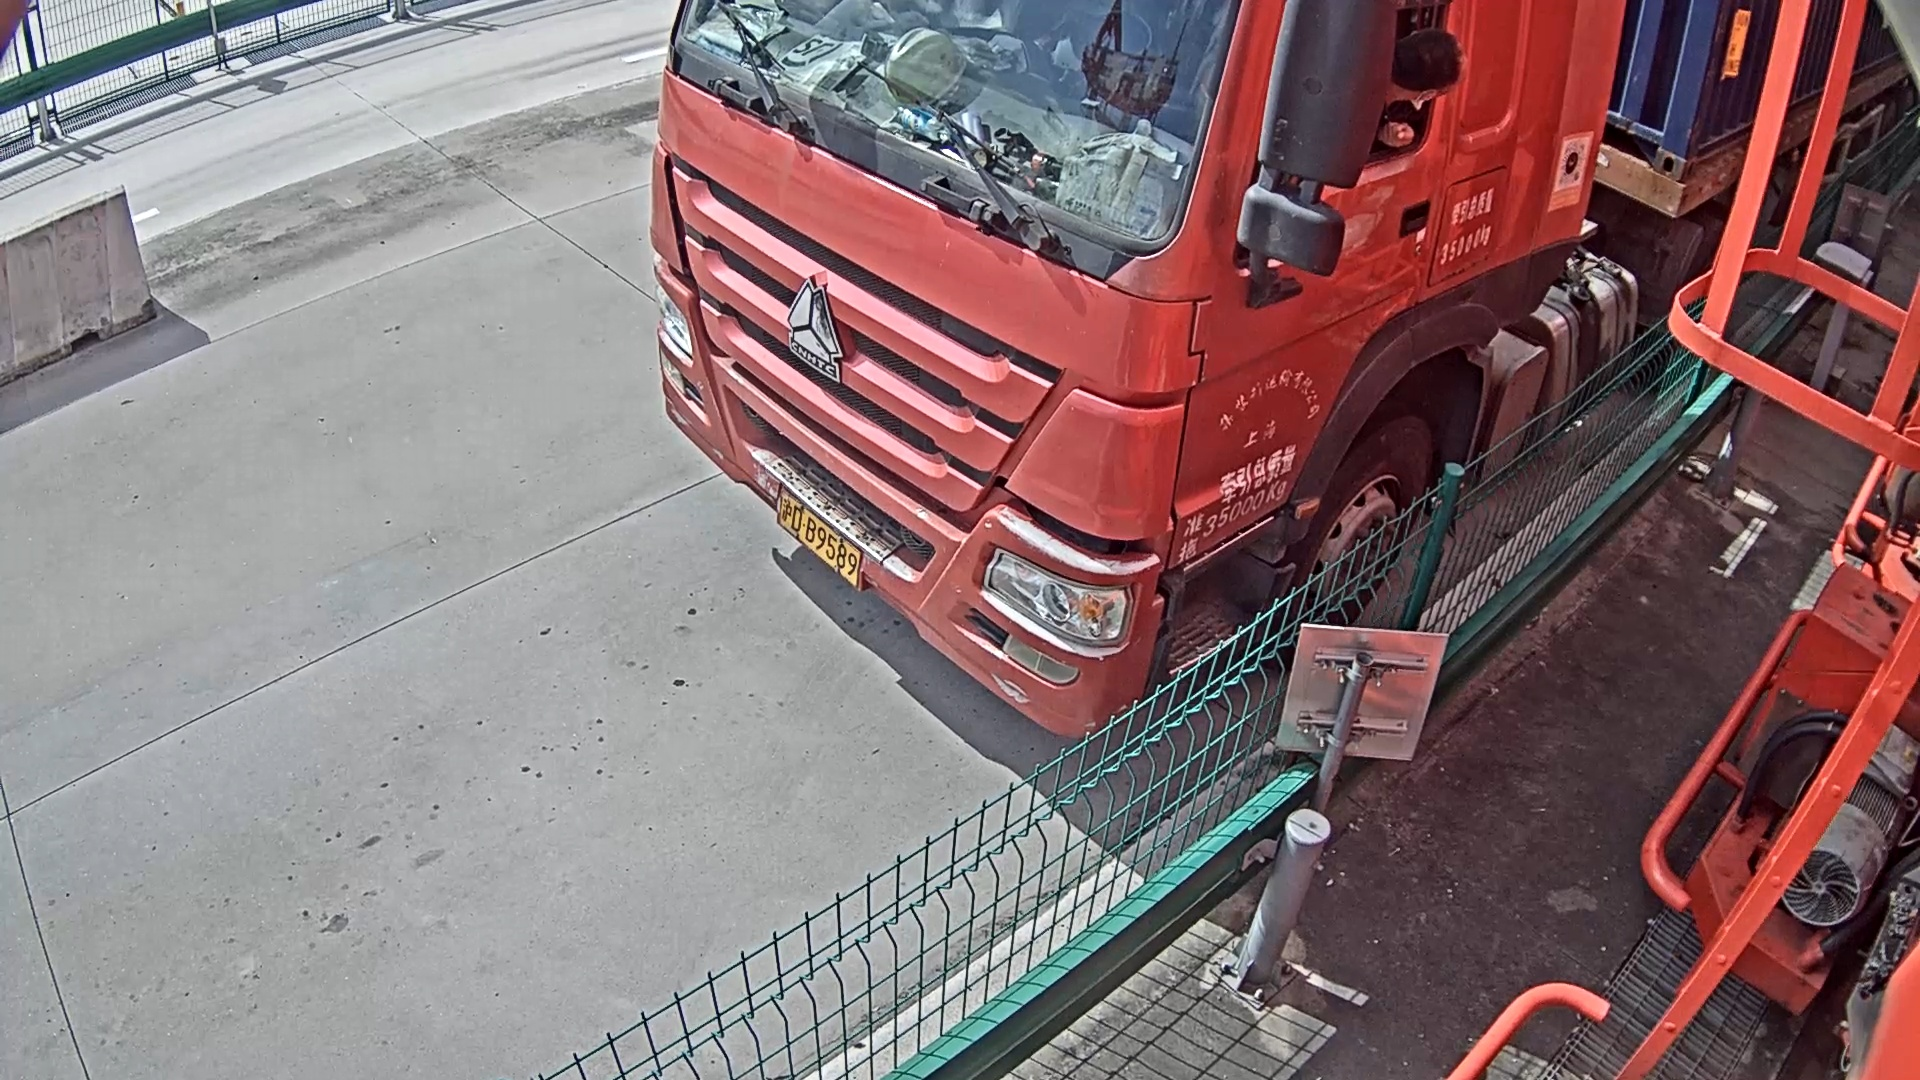head: (656, 1, 1598, 731)
plate: (773, 492, 864, 591)
